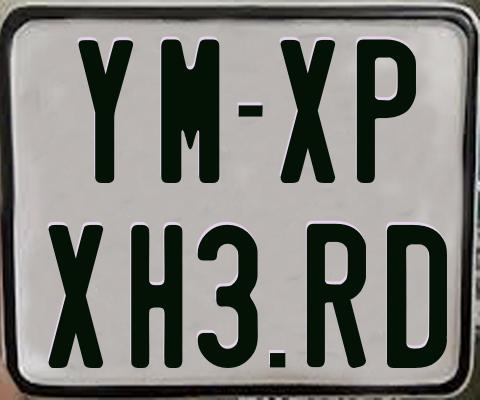3: (195, 225, 260, 368)
D: (384, 223, 449, 366)
H: (131, 224, 187, 368)
M: (158, 37, 221, 185)
P: (357, 37, 421, 183)
R: (304, 222, 364, 371)
X: (45, 224, 104, 371), (280, 39, 338, 184)
Y: (75, 37, 136, 186)
